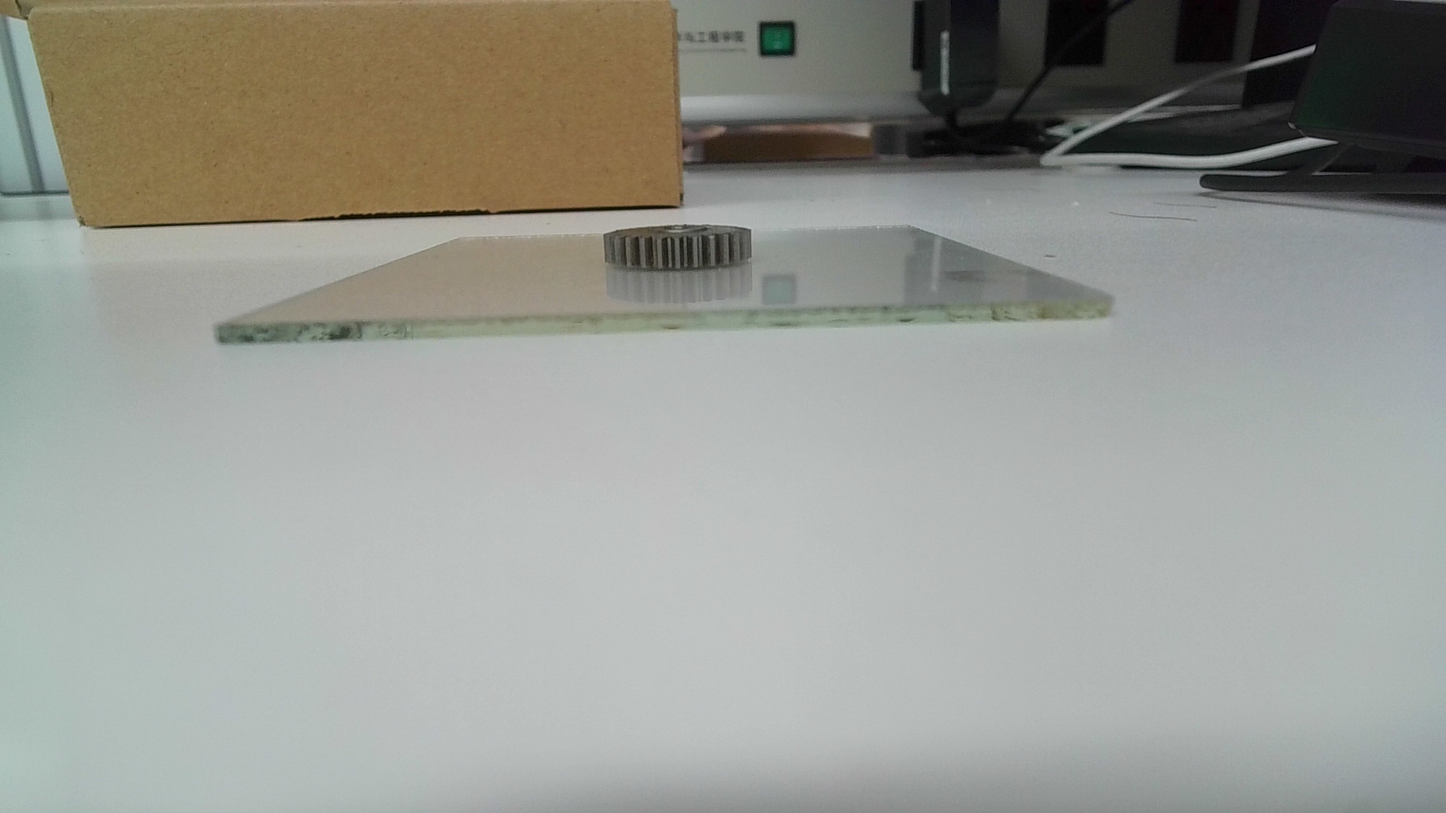gear: (602, 223, 757, 272)
